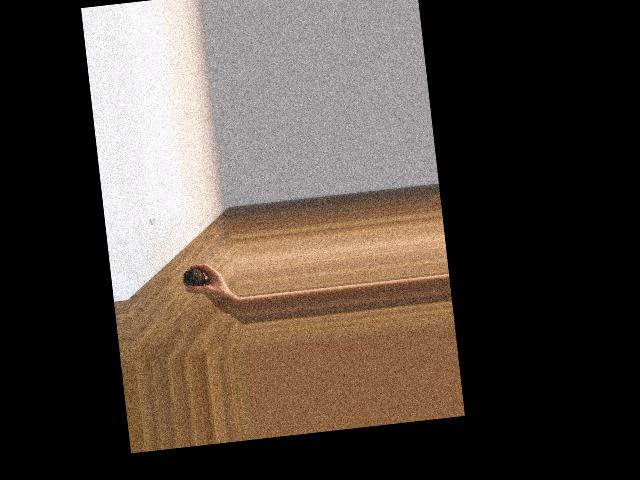beet: (181, 267, 206, 298)
